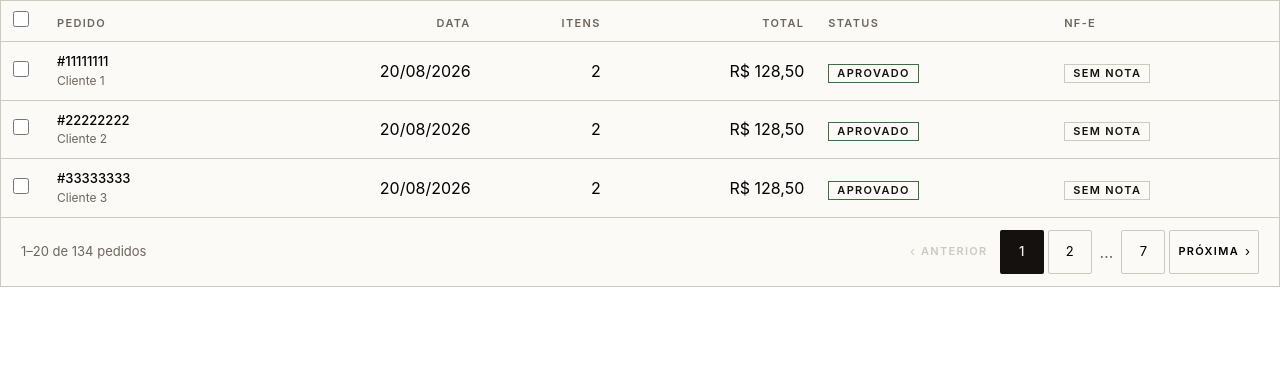
a seleção em massa — R25 › a caixa do cabeçalho marca os desta página
Click the checkbox named "Marcar os 3 pedidos desta página": (21, 19) [13,11,29,27]
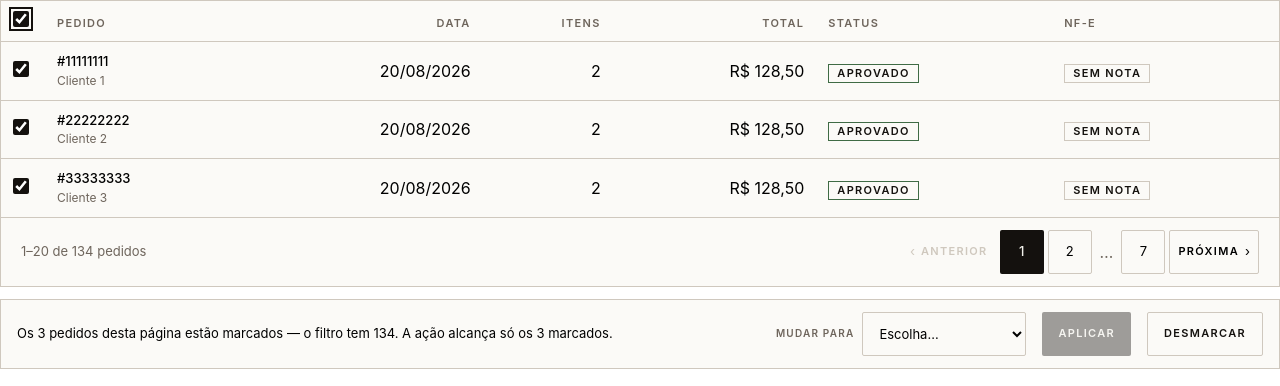
Check: the message shows "3", box [17,325,613,341]
Check: the message shows "134", box [17,325,613,341]
Check: the message shows "alcança só os 3", box [17,325,613,341]
